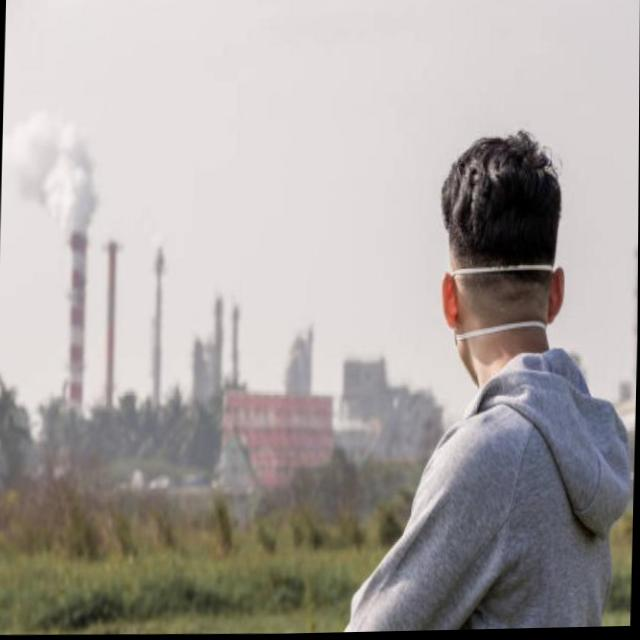no helmet: (403, 120, 587, 431)
